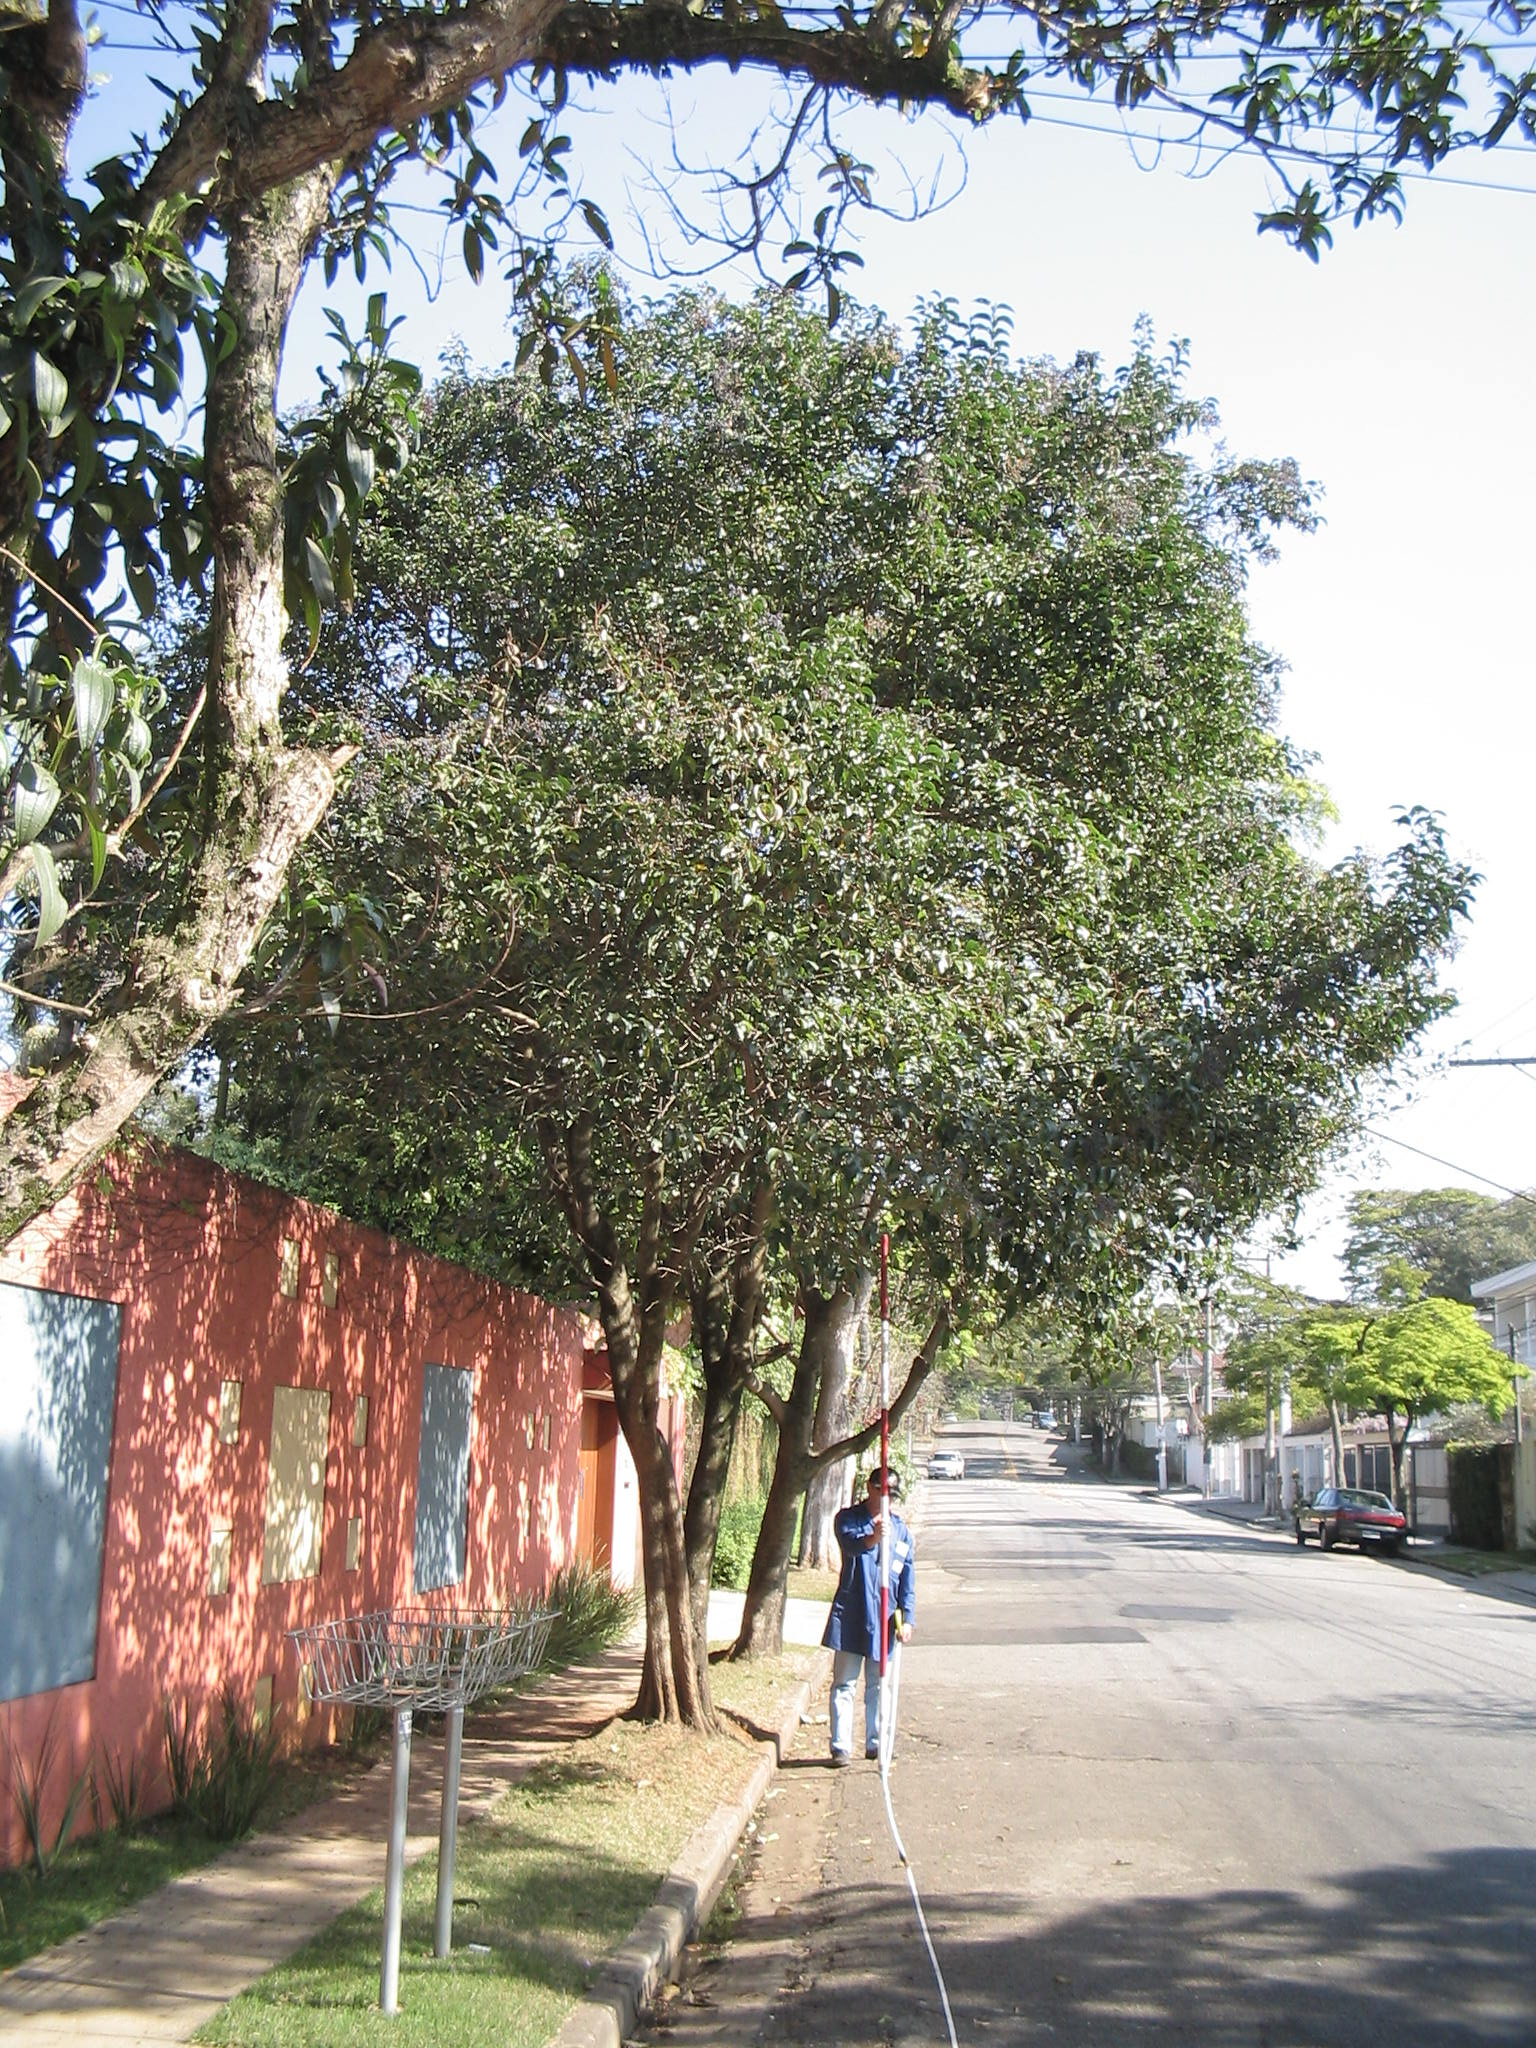crown: (231, 290, 1465, 1403)
stem: (579, 1545, 744, 1725), (729, 1447, 845, 1661)
stick: (850, 1234, 929, 1777)
tree: (219, 287, 1475, 1740), (1292, 1295, 1528, 1553)
